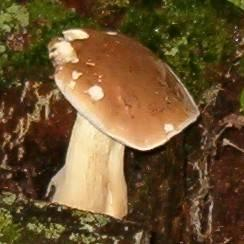Non-edible Mushroom: (43, 25, 200, 220)
